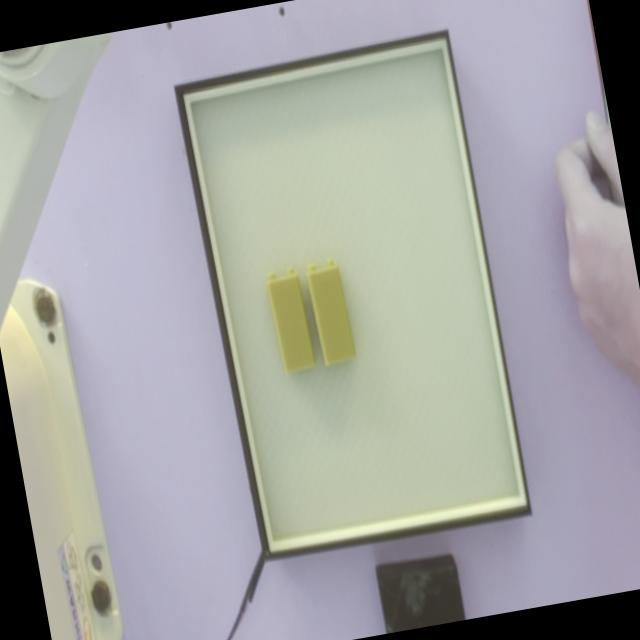bateria: (265, 268, 317, 375), (306, 259, 356, 368)
mesa: (174, 29, 531, 561)
